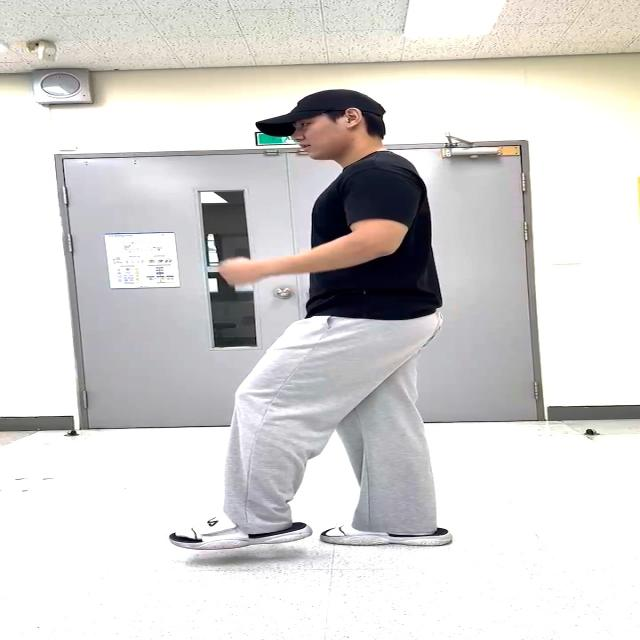leg: (138, 337, 360, 565)
